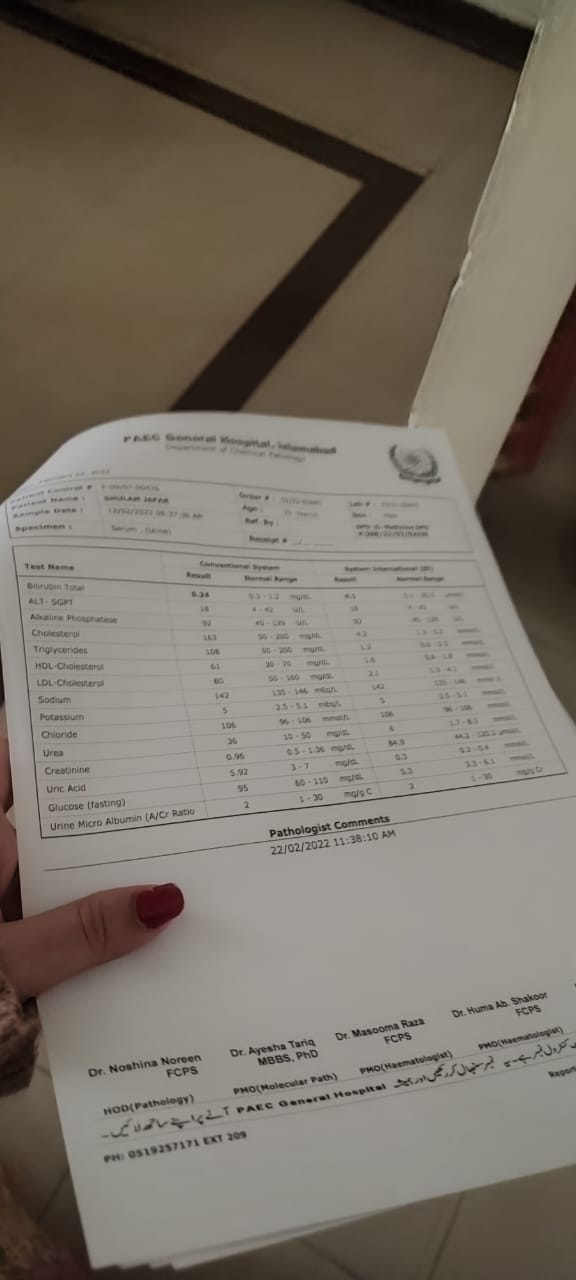report: (12, 555, 560, 842)
